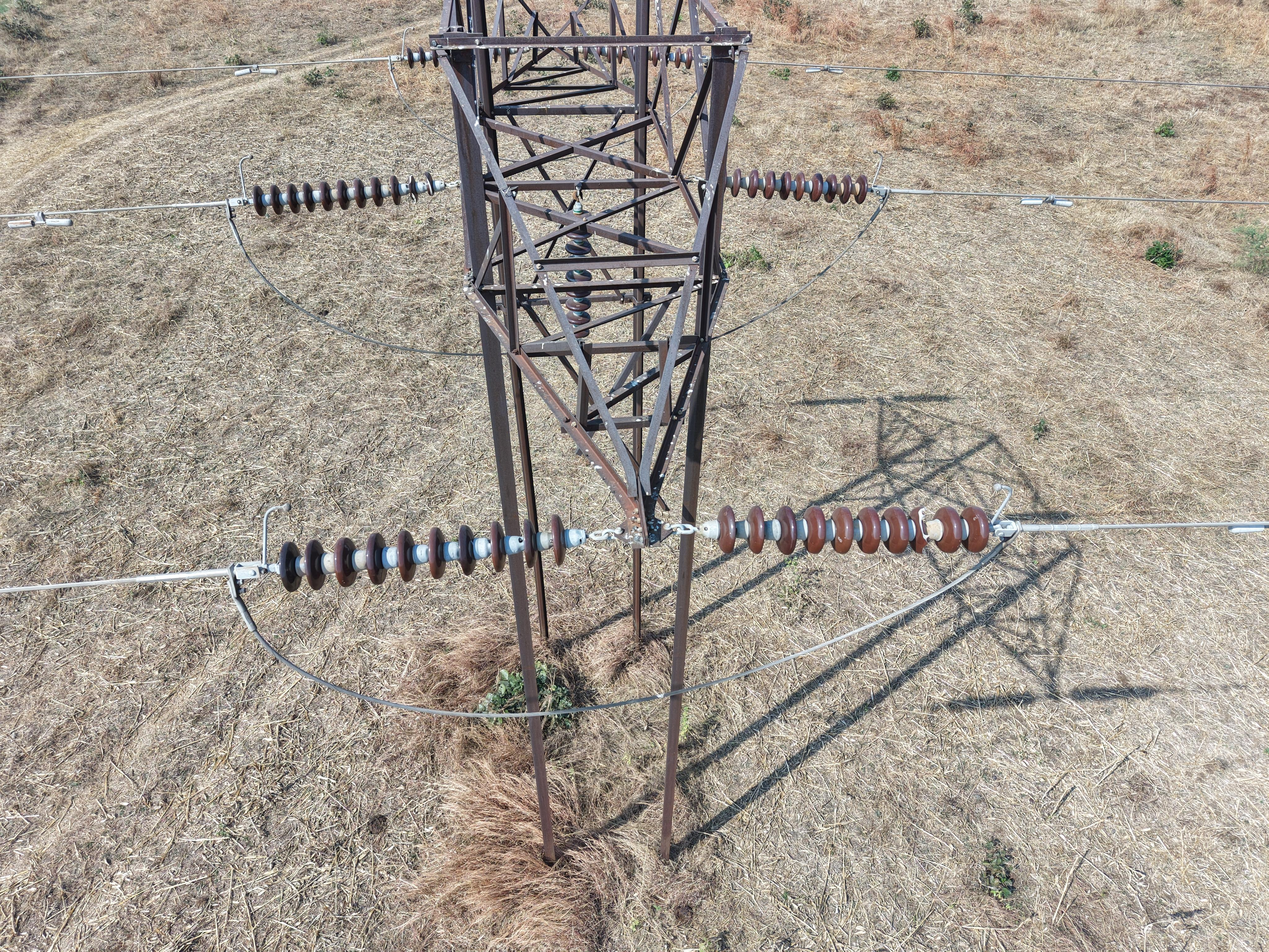broken_insulator: (906, 502, 934, 559), (403, 172, 421, 206), (420, 171, 439, 198)
